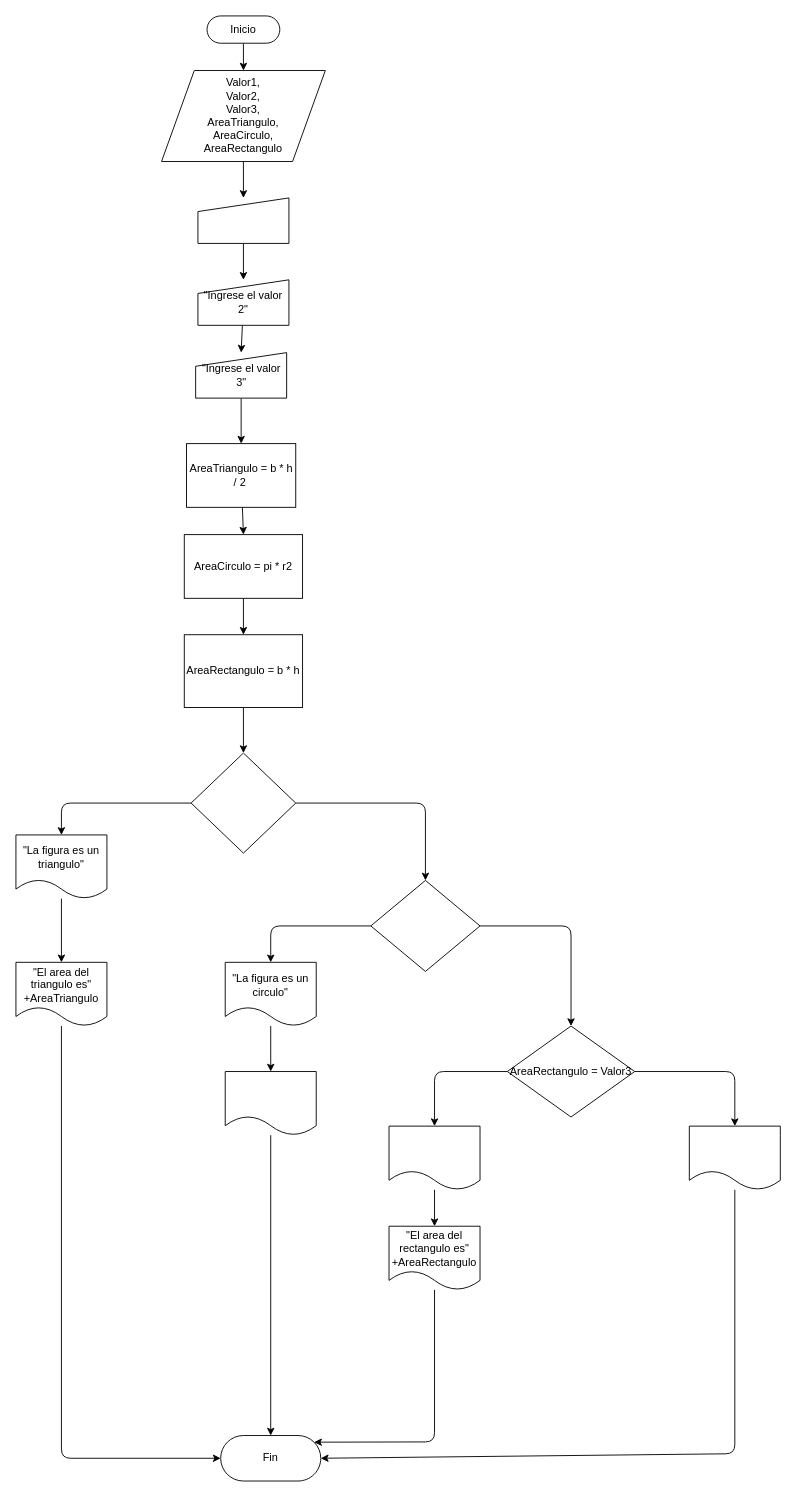
Some shapes in this 796 by 1497 pixel diagram are drawn without their labels. Here are the shapes that lost their labels. From the top down, the box of each, then its label:
(197, 197, 289, 243): "Ingrese el valor 1"
(190, 752, 296, 853): AreaTriangulo = Valor3
(370, 880, 480, 971): AreaCirculo = Valor3
(224, 1071, 316, 1135): "El area del circulo es" +AreaCirculo
(388, 1125, 480, 1190): "La figura es un rectangulo"
(688, 1125, 780, 1190): "Los datos no corresponden a ninguna figura"
